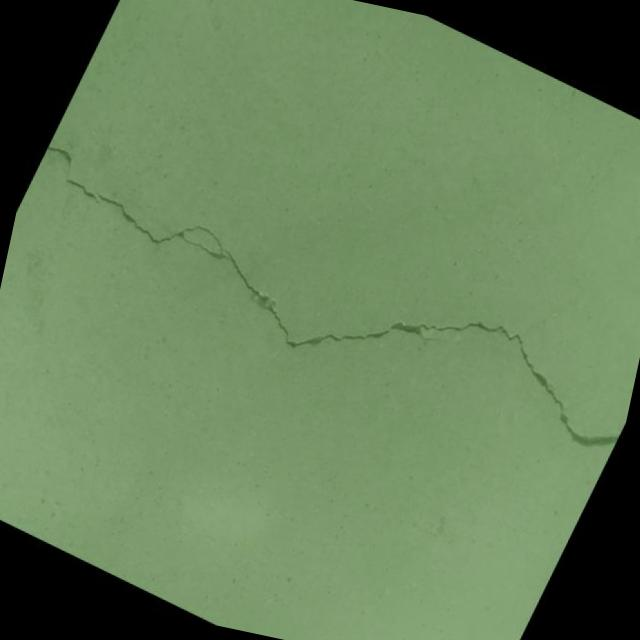crack: (0, 108, 640, 499)
